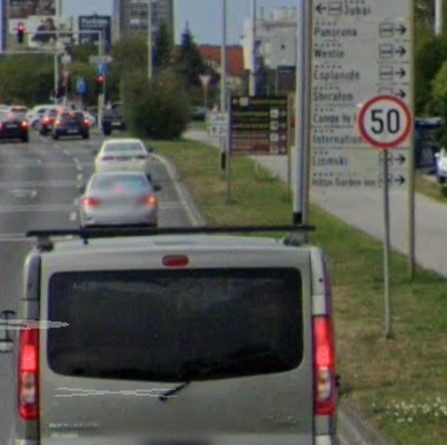Ograničenje brzine 50: (357, 95, 412, 148)
